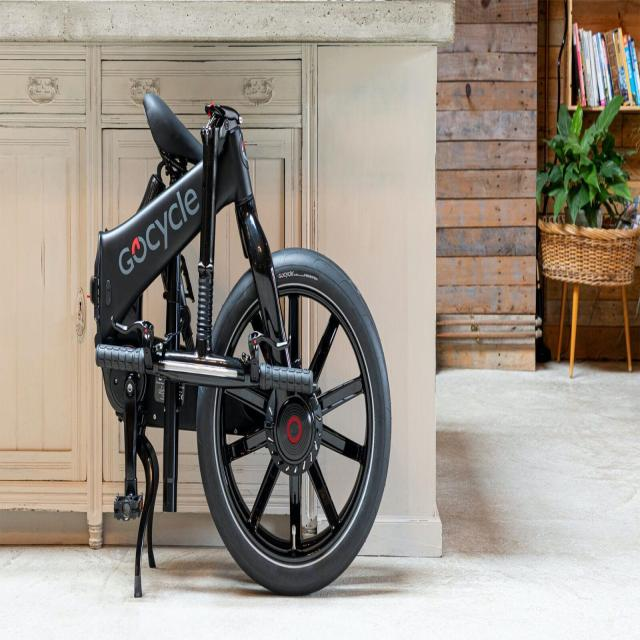folding-bike: (88, 91, 392, 601)
